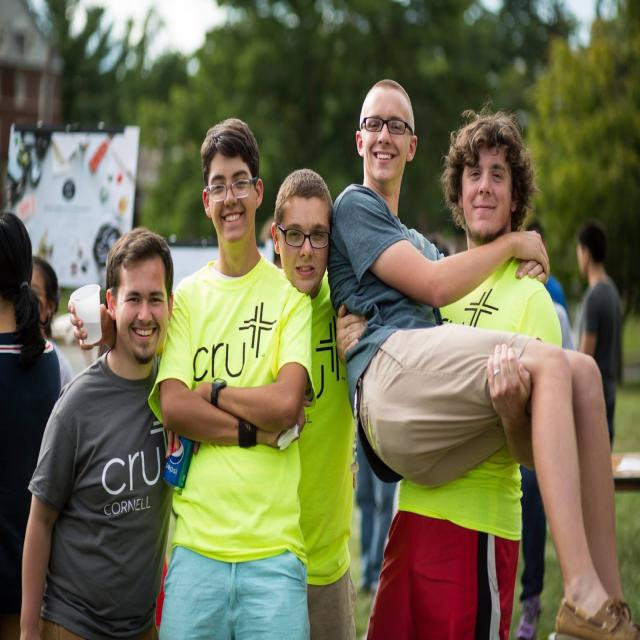body: (324, 78, 640, 640), (66, 166, 363, 640), (324, 106, 566, 640), (154, 116, 320, 640), (17, 223, 175, 640), (0, 210, 57, 638), (515, 219, 567, 640), (571, 220, 626, 453), (29, 252, 75, 394), (355, 430, 394, 596), (429, 224, 467, 260)
